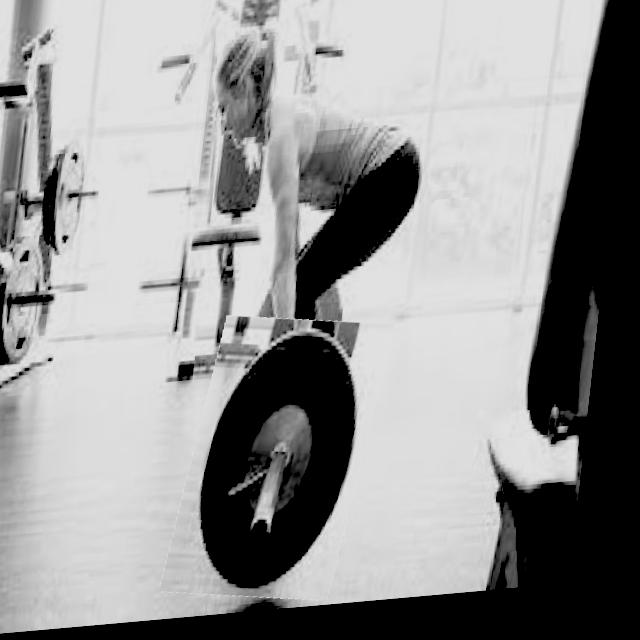barbell: (182, 316, 397, 615)
